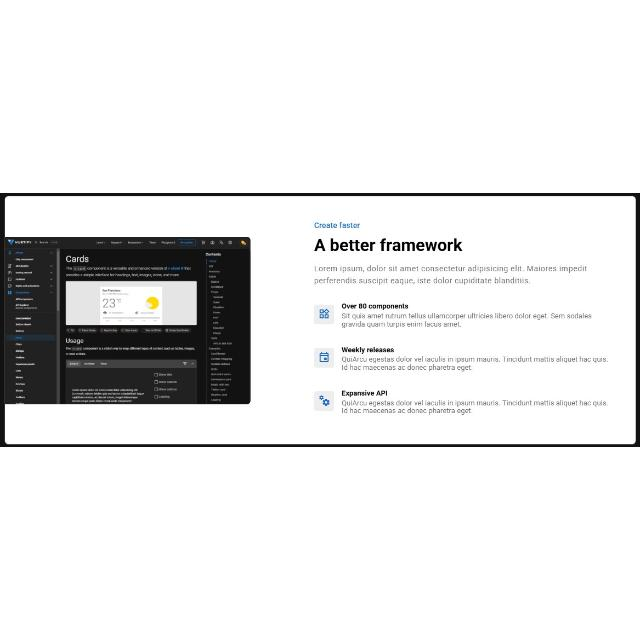QLabel: (314, 265, 588, 285), (341, 356, 609, 372), (341, 313, 593, 329), (341, 400, 611, 414), (312, 237, 463, 253), (341, 302, 409, 310), (340, 346, 394, 354), (340, 389, 390, 397), (314, 222, 361, 230)
VCard: (4, 193, 636, 447)
VIcon: (314, 347, 334, 368), (314, 391, 334, 412), (314, 304, 334, 324)
VImg: (5, 237, 252, 406)
